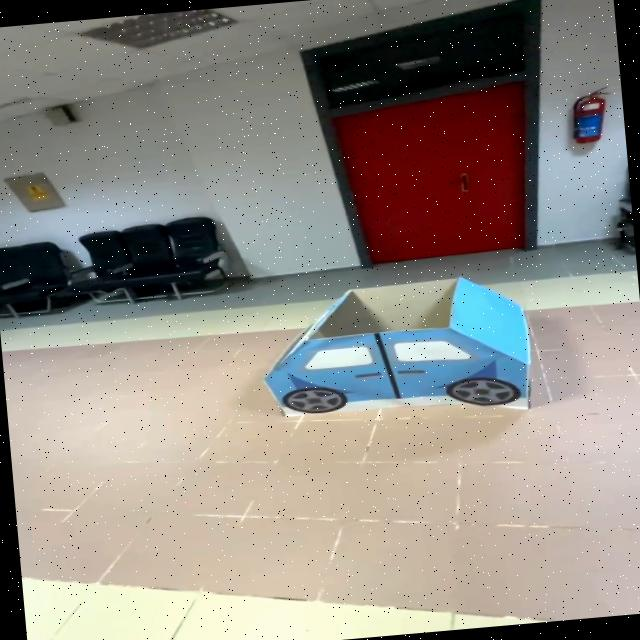blue_car: (225, 253, 575, 450)
